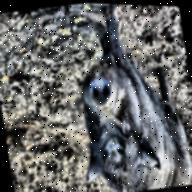boar: (60, 2, 192, 192)
